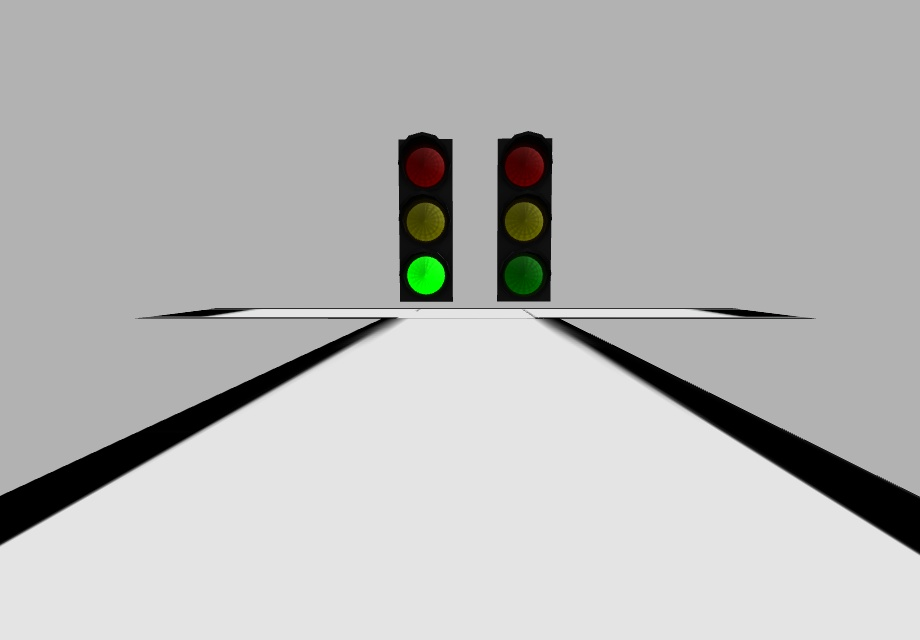green_off: (503, 256, 540, 297)
green_on: (407, 257, 446, 298)
